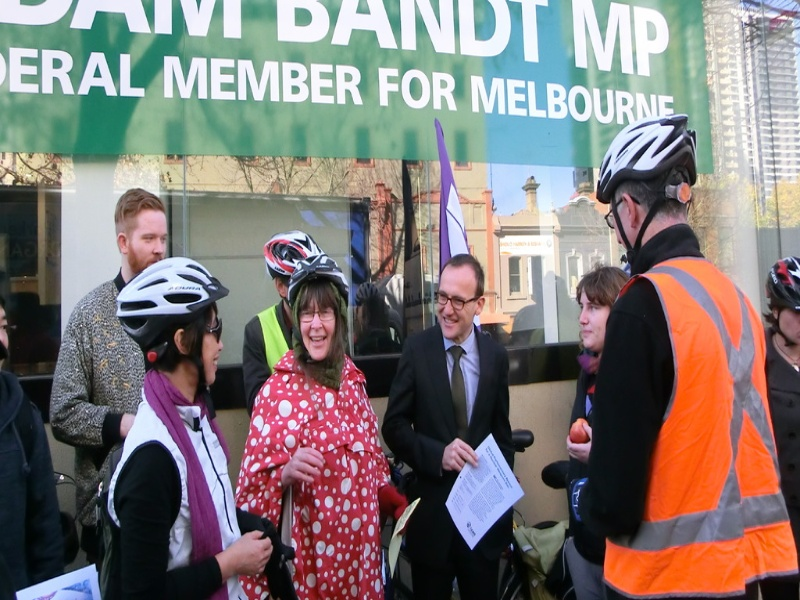helmet: (115, 259, 238, 327), (591, 117, 687, 186)
jacket: (606, 257, 798, 594)
